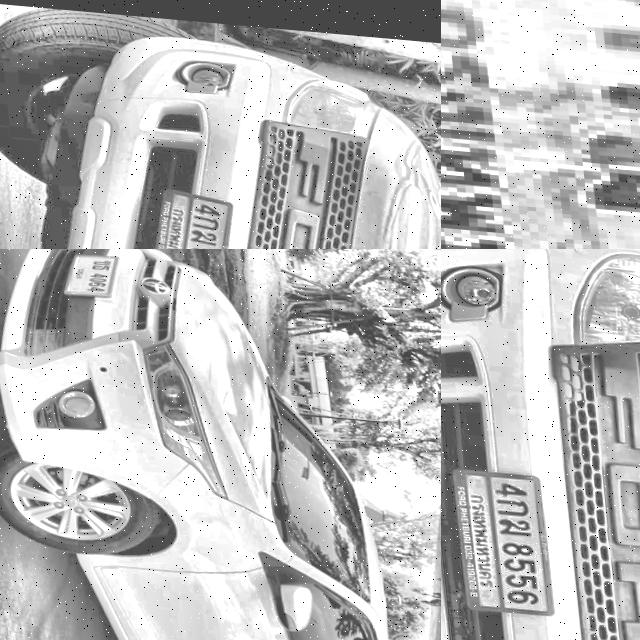license-plate: (441, 0, 640, 249), (442, 464, 548, 612), (134, 180, 240, 249), (54, 249, 124, 296)
